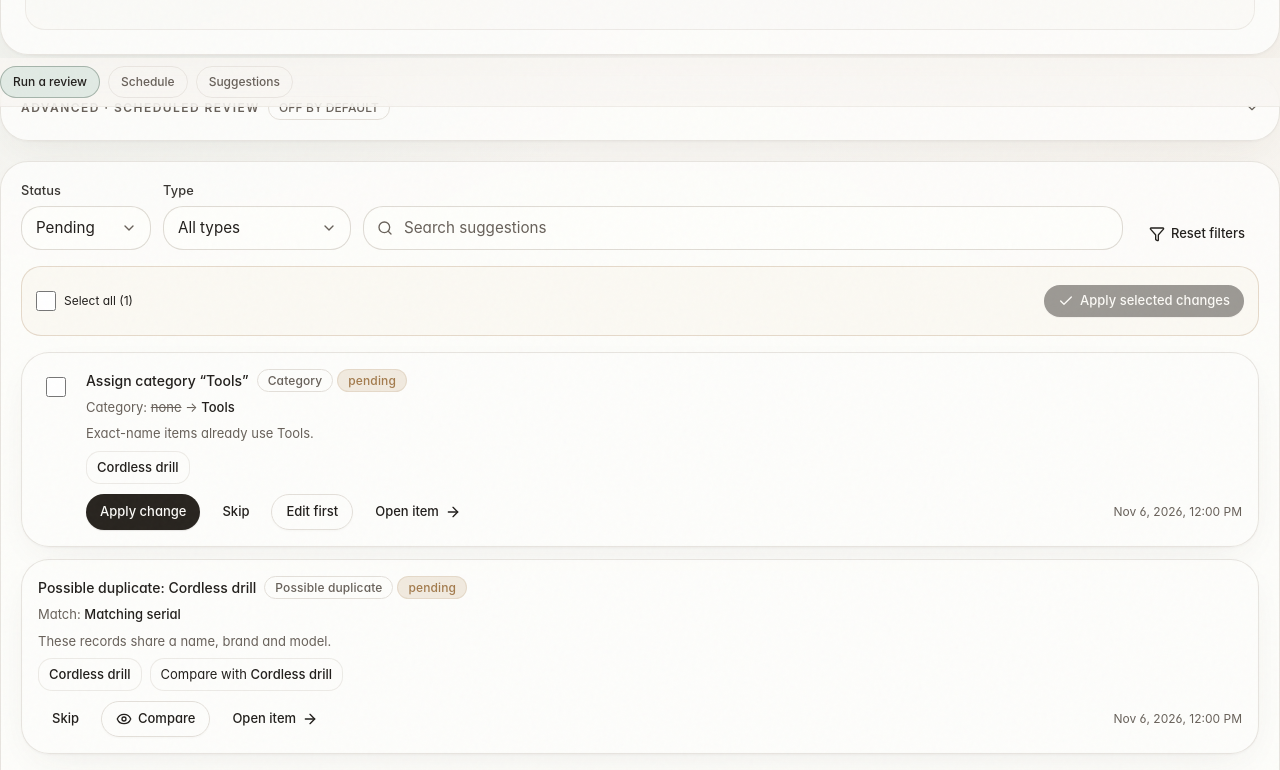
Test: ReviewPage › starts with nothing selected and names the bulk action exactly
(page scrolled)
expect the button "Apply selected changes" is disabled: met, box [1044,285,1244,317]
Step 1. Click the checkbox named "Select Assign category “Tools”" → (56,387), box [46,377,66,397]
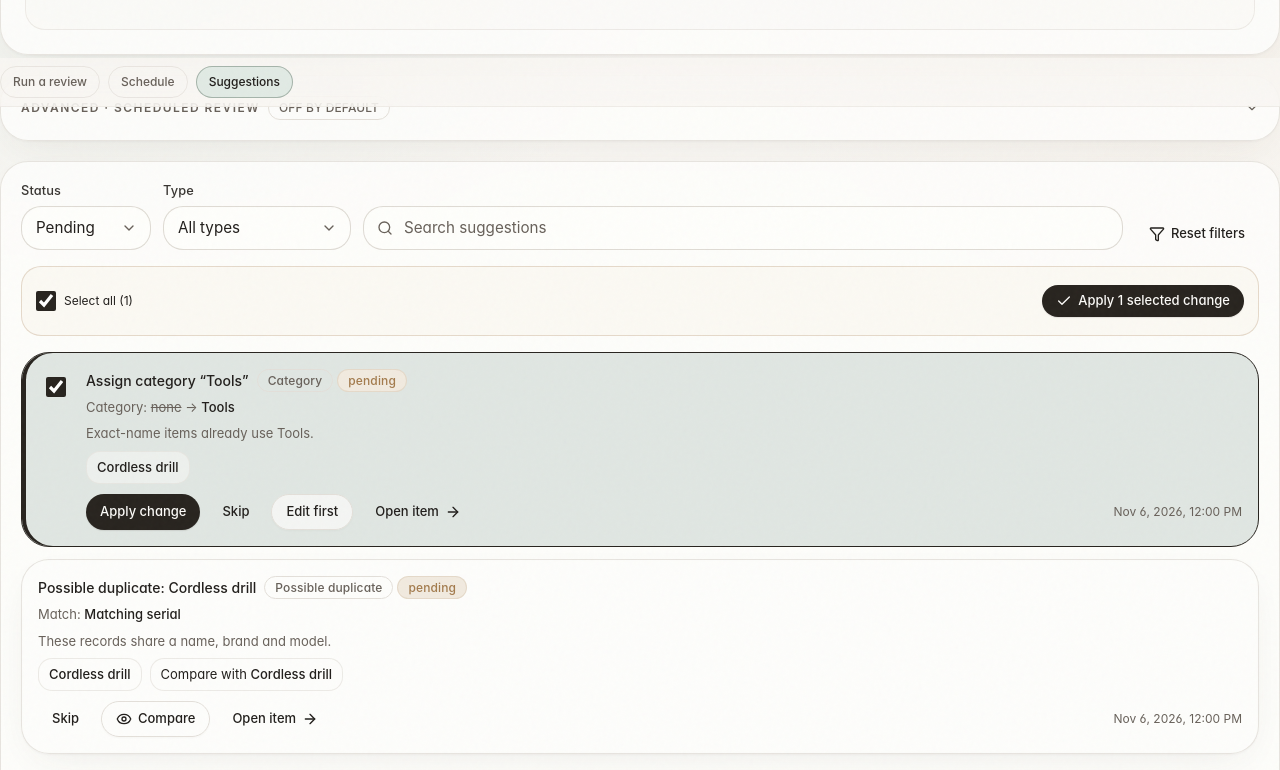
expect the button "Apply 1 selected change" is enabled: met, box [1042,285,1244,317]
